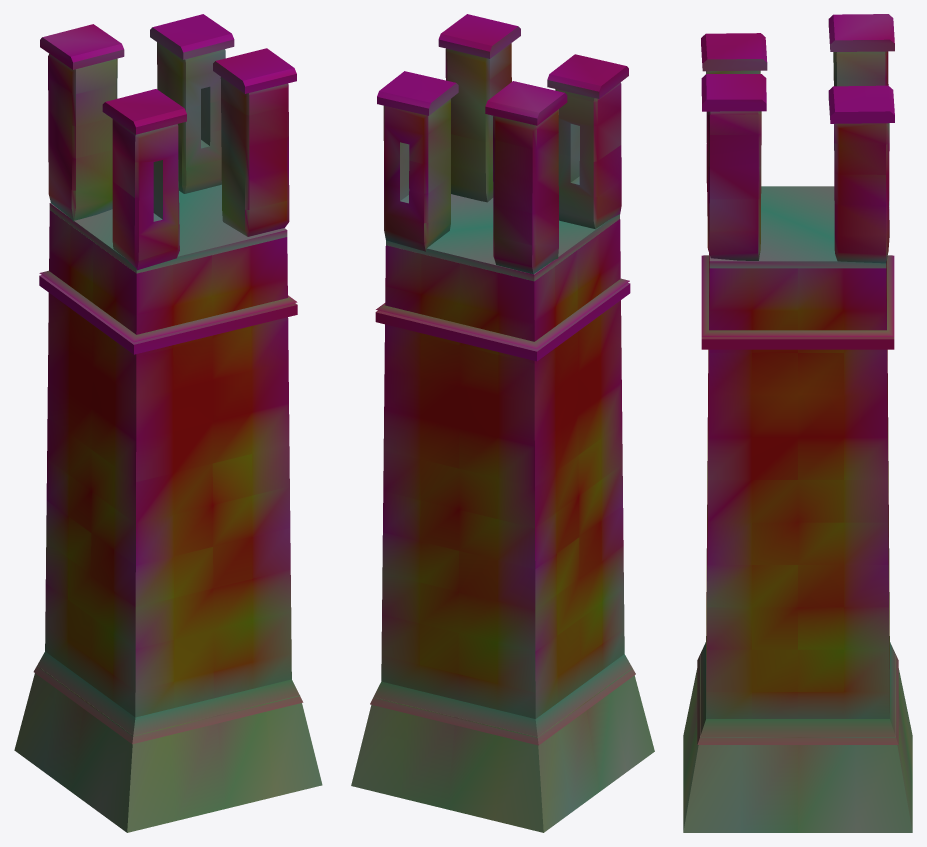
The model's file is wall_high_post.glb.
3 views of the same model, side by side, from view 1: azimuth 30°, elevation 25°; view 2: azimuth 150°, elevation 25°; view 3: azimuth 270°, elevation 25° (orthographic). The views are drawn at different scales.
Visible parts, largest first — view 1: wall_high_post_LOD0; view 2: wall_high_post_LOD0; view 3: wall_high_post_LOD0.
Boxes of the visible parts, x1,y1,x2,y2 form: wall_high_post_LOD0: [14, 14, 322, 832]; wall_high_post_LOD0: [351, 14, 654, 832]; wall_high_post_LOD0: [683, 14, 912, 832].
Size of what is drawn, in the model's own units: 0.888 by 3.12 by 0.888.
